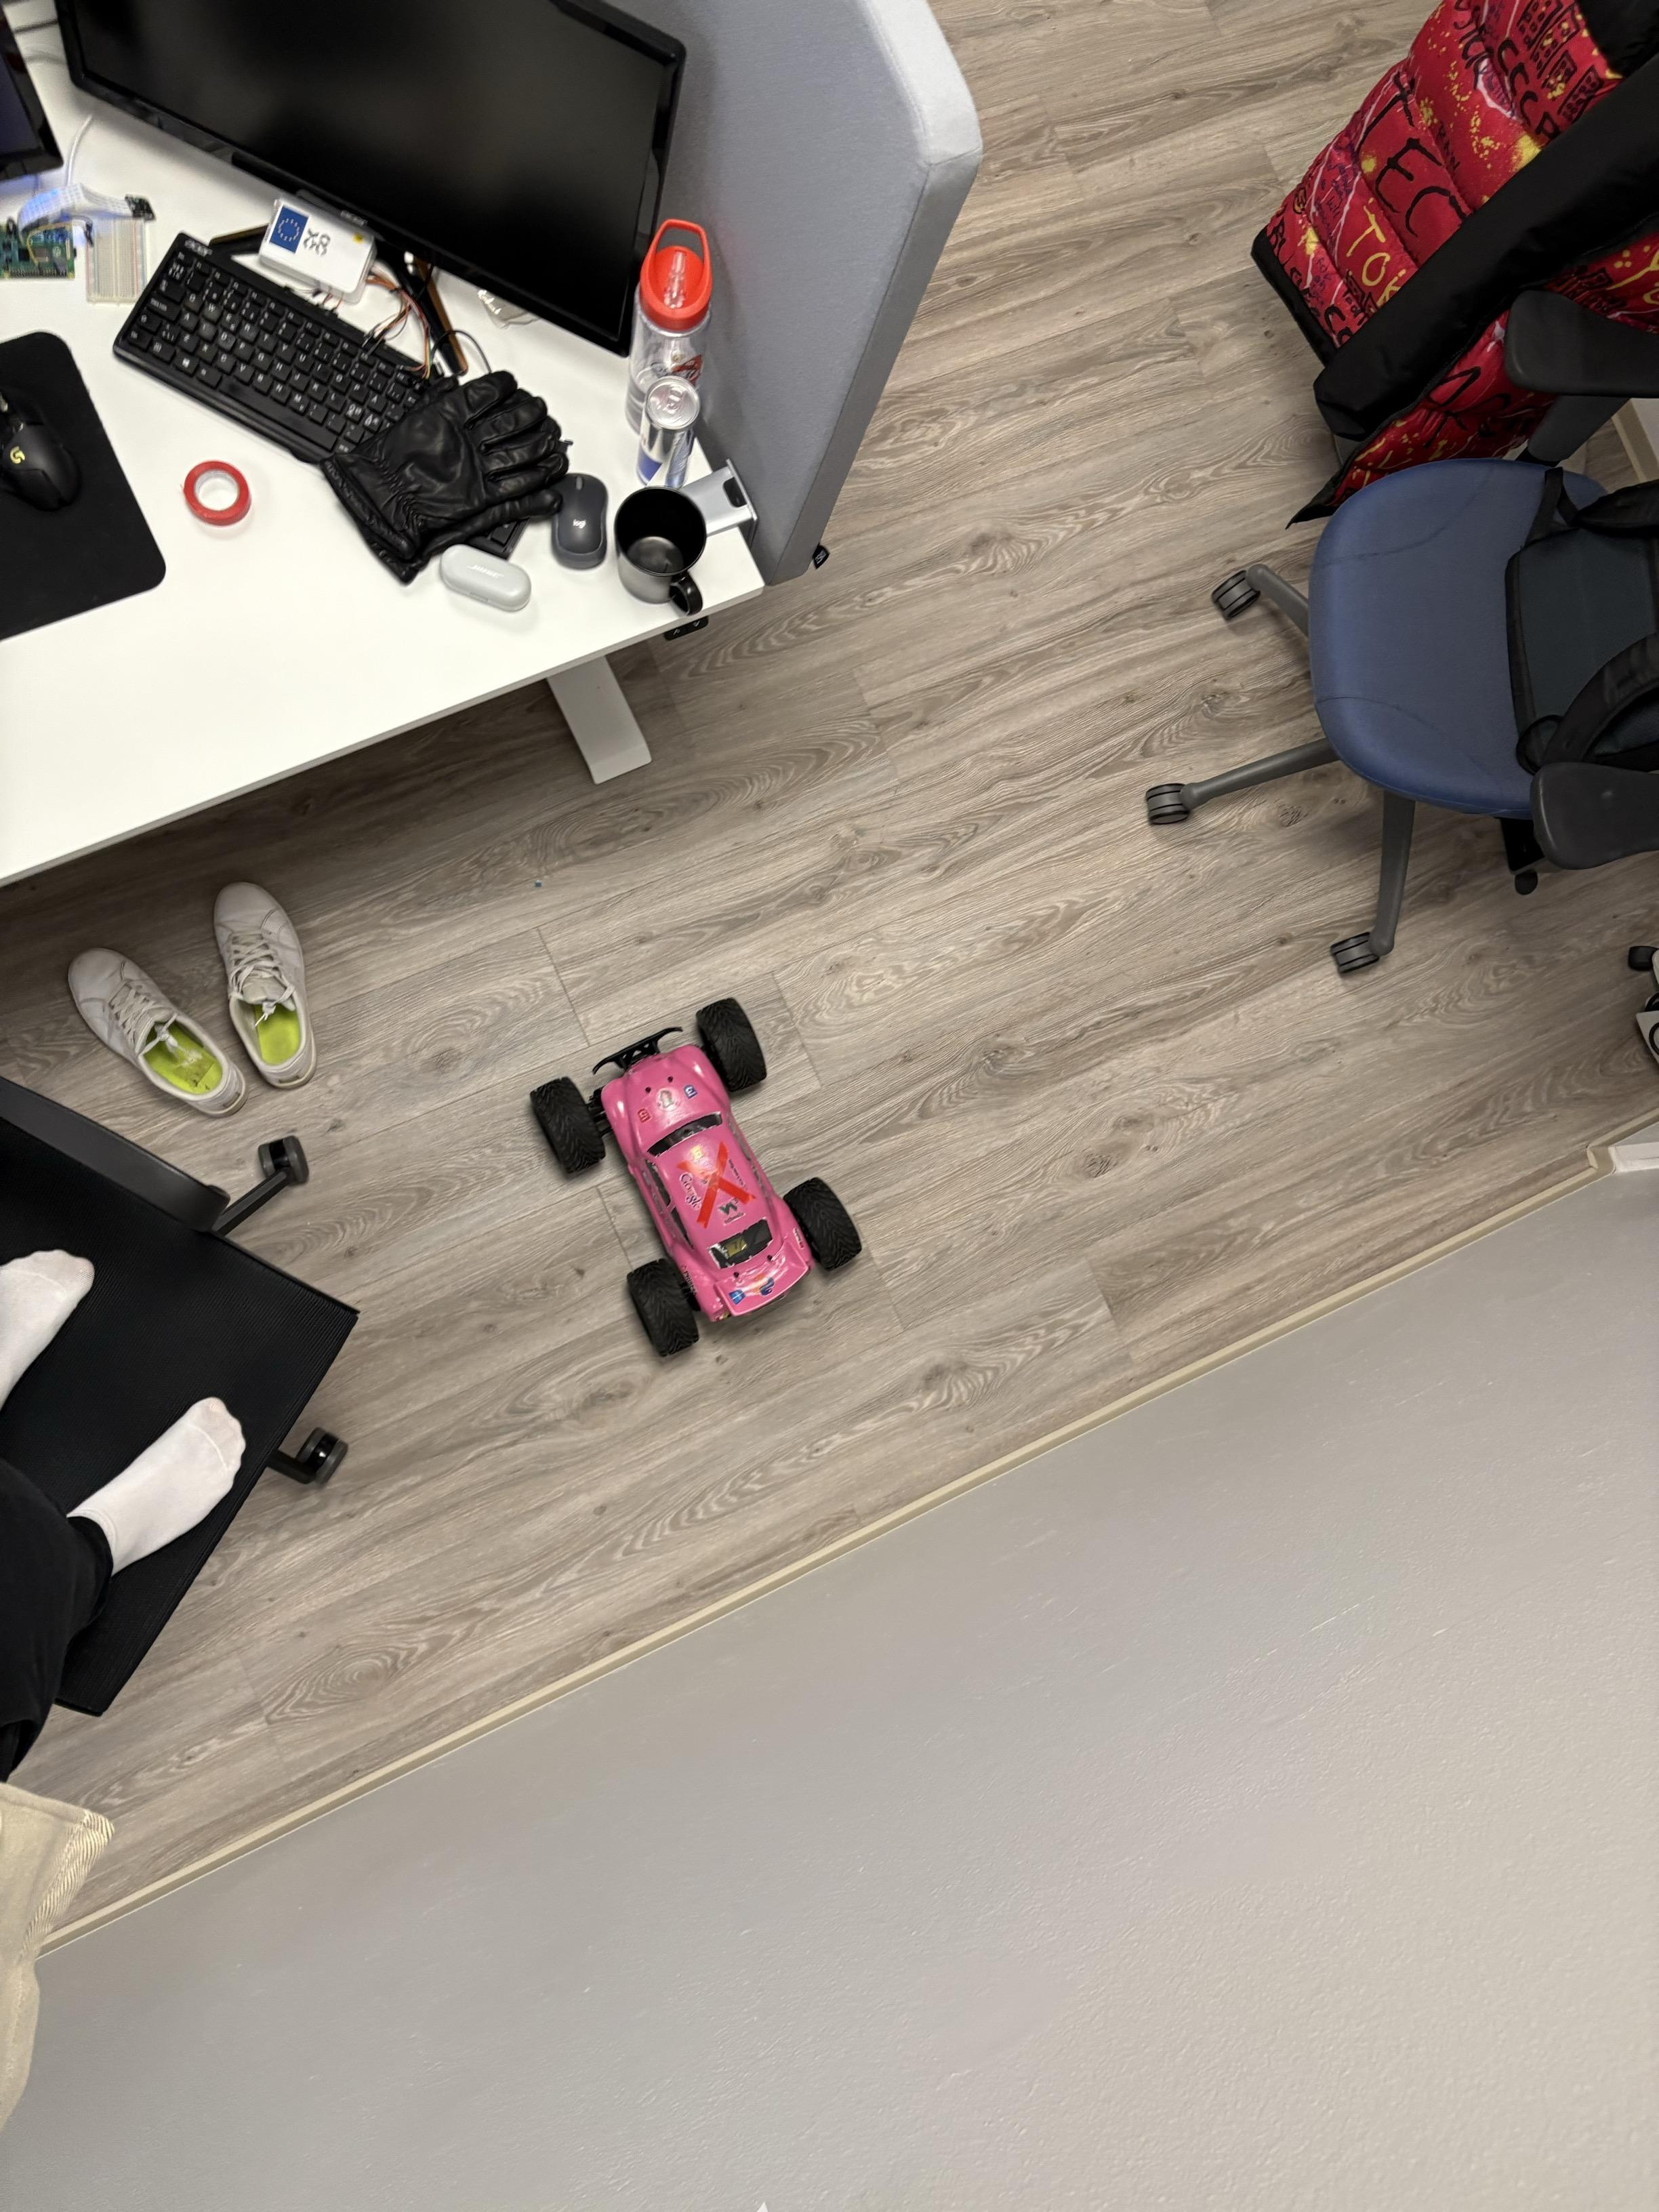Car: (484, 892, 955, 1430)
